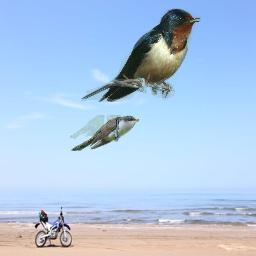Cuckoo: (70, 115, 139, 151)
Swallow: (81, 8, 201, 102)
